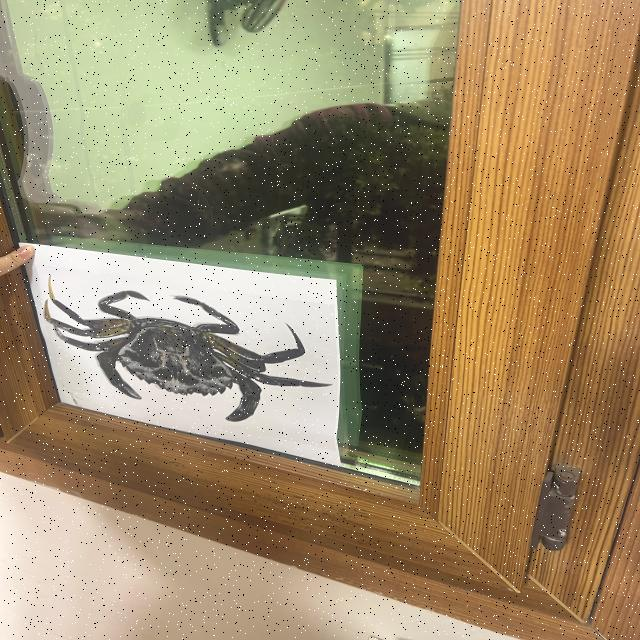European_Green_Crab: (17, 274, 351, 435)
